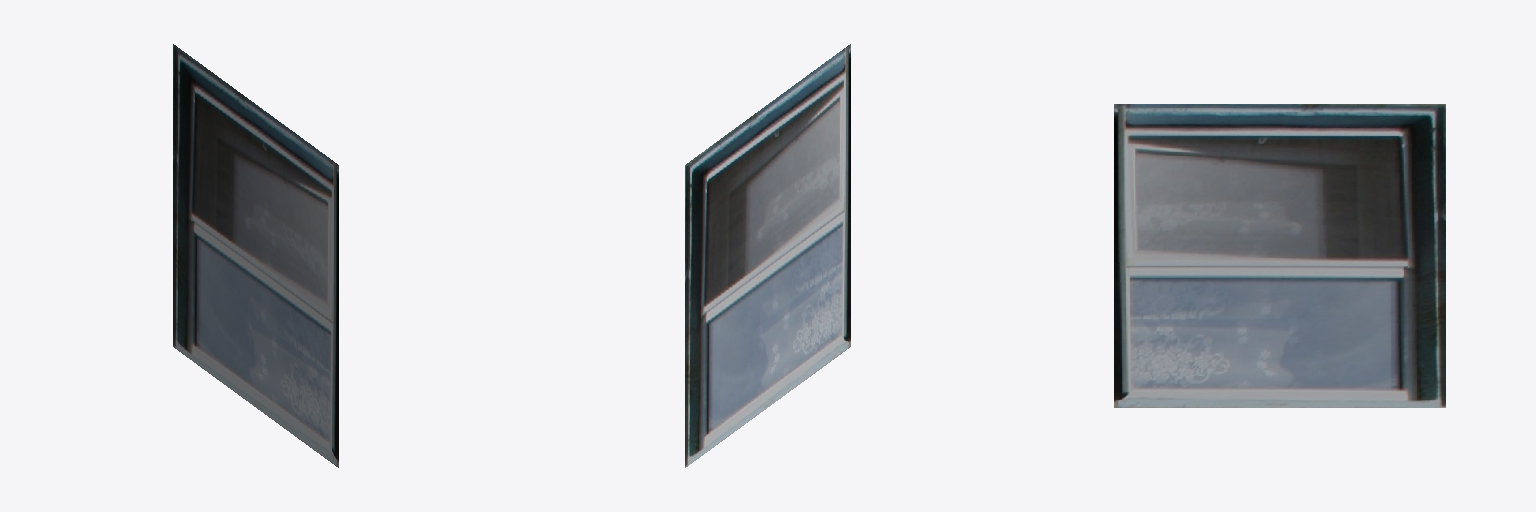
3 renders of one model, left to right at view 1: azimuth 30°, elevation 25°; view 2: azimuth 150°, elevation 25°; view 3: azimuth 270°, elevation 25°, orthographic.
Parts seen in each view (by area): view 1: Plane001; view 2: Plane001; view 3: Plane001.
Part boxes in pixels (x1,y1,x2,y2): Plane001: (173,44,338,467); Plane001: (685,44,850,467); Plane001: (1114,104,1445,407).
Size of the model in its own units: 0 by 202 by 200.
Materials: 1 (1 with a texture image).